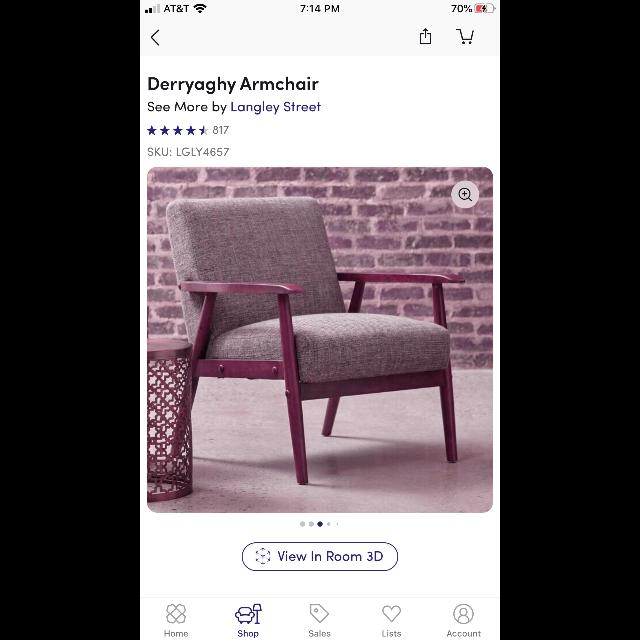icon: (452, 182, 478, 208), (147, 126, 209, 134), (453, 604, 473, 624), (310, 604, 330, 622), (383, 606, 401, 622), (456, 30, 474, 44), (421, 29, 432, 45), (151, 30, 159, 46)
image: (147, 168, 493, 512), (236, 604, 262, 624), (167, 604, 186, 624)
pageindicator: (300, 522, 338, 526)
text: (149, 78, 319, 94), (147, 102, 320, 115), (148, 148, 230, 156), (447, 631, 481, 637), (238, 630, 258, 638), (165, 630, 188, 636), (213, 126, 229, 134), (310, 630, 330, 636), (383, 630, 401, 636)
textbutton: (242, 543, 398, 571)
uppertaskbar: (140, 0, 500, 14)
